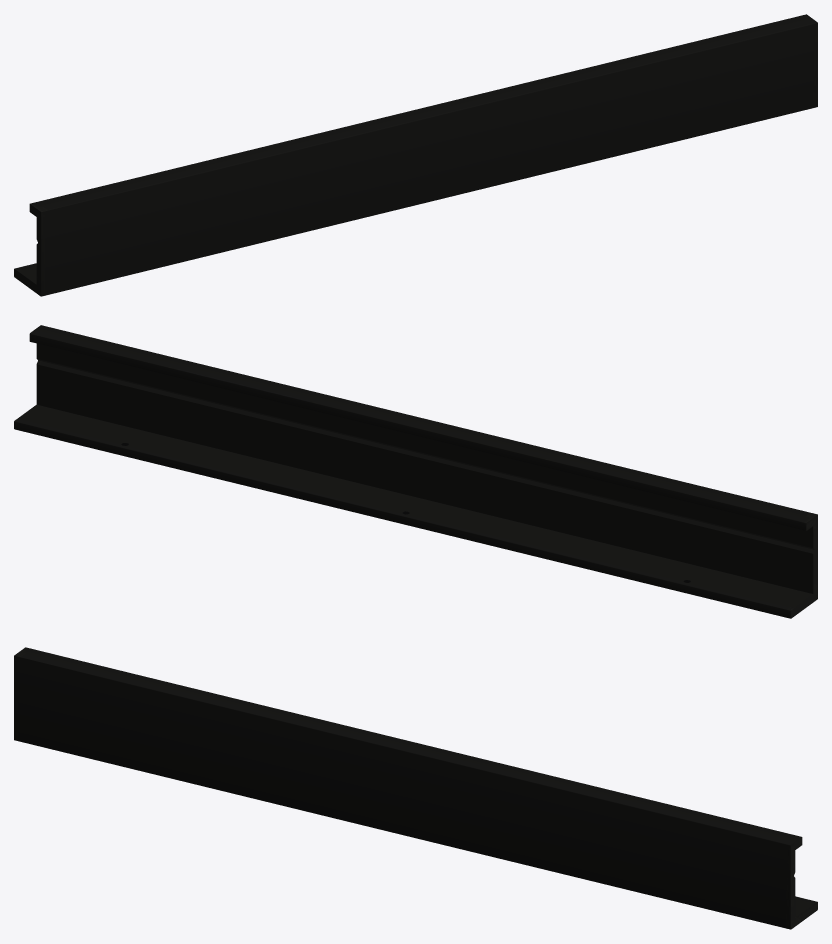
The model's file is mosslanda_poka_na_zdjecia_70292104.glb.
3 renders of one model, top to bottom at view 1: azimuth 30°, elevation 25°; view 2: azimuth 150°, elevation 25°; view 3: azimuth 330°, elevation 25°, orthographic.
Parts seen in each view (by area): view 1: mosslanda_poka_na_zdjecia_70292104; view 2: mosslanda_poka_na_zdjecia_70292104; view 3: mosslanda_poka_na_zdjecia_70292104.
Boxes of the visible parts, box(x1,y1,x2,y2) form: mosslanda_poka_na_zdjecia_70292104: box(14, 14, 817, 296); mosslanda_poka_na_zdjecia_70292104: box(14, 325, 817, 618); mosslanda_poka_na_zdjecia_70292104: box(14, 647, 817, 929).
Size of the model in its own units: 1.15 by 0.12 by 0.07.
1 material, 1 textured.
